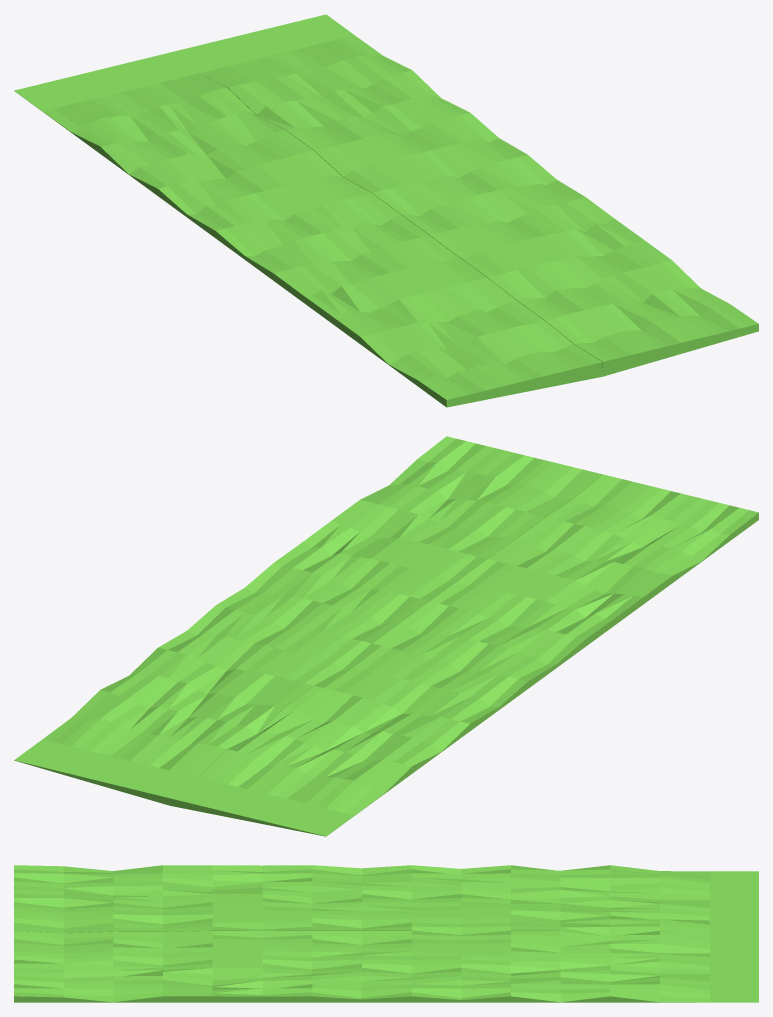
File: SueloMitadVerde.fbx
3 views of the same model, one above another, from view 1: azimuth 30°, elevation 25°; view 2: azimuth 150°, elevation 25°; view 3: azimuth 270°, elevation 25° (orthographic). The views are drawn at different scales.
Visible parts, largest first — view 1: SueloMitad; view 2: SueloMitad; view 3: SueloMitad.
Part boxes in pixels (box(x1,y1,x2,y2)): SueloMitad: box(14, 14, 758, 407); SueloMitad: box(14, 436, 758, 836); SueloMitad: box(14, 865, 758, 1002).
Bounding box in the file's own units: 777 × 35.03 × 1865.
